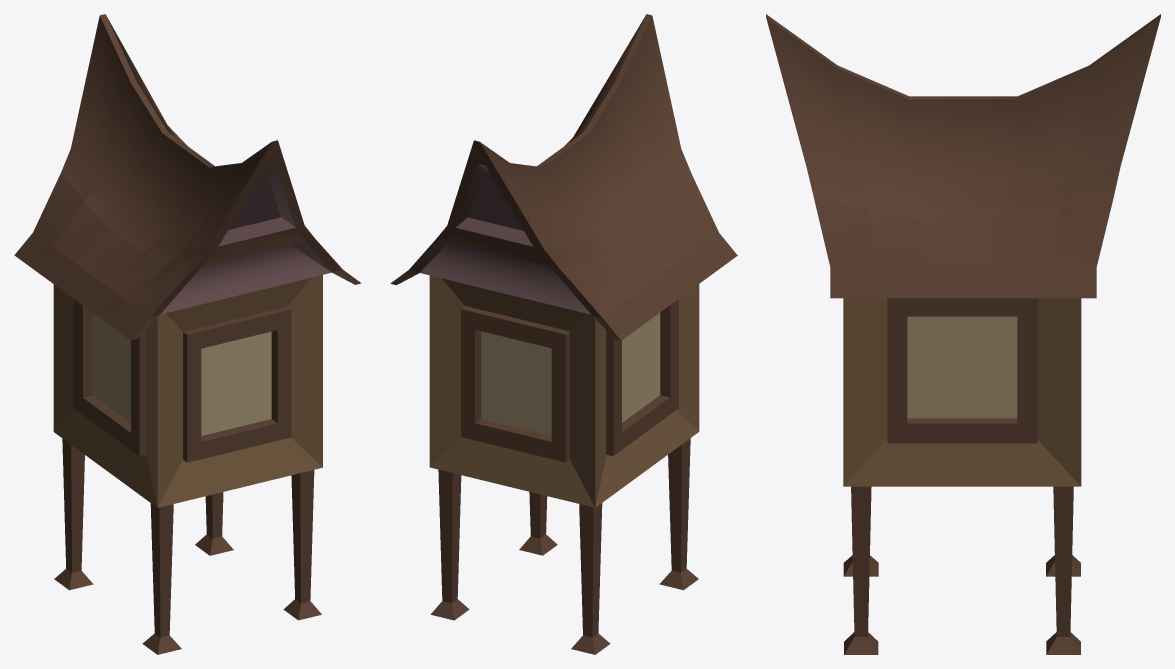
Rendered from rangkiang.fbx.
3 views of the same model, side by side, from view 1: azimuth 30°, elevation 25°; view 2: azimuth 150°, elevation 25°; view 3: azimuth 270°, elevation 25° (orthographic). The views are drawn at different scales.
Visible parts, largest first — view 1: Cube.034, pasted__pCube15; view 2: Cube.034, pasted__pCube15; view 3: pasted__pCube15, Cube.034.
Part boxes in pixels (x1=…): Cube.034: x1=53, y1=275, x2=322, y2=654; pasted__pCube15: x1=14, y1=14, x2=361, y2=340; Cube.034: x1=429, y1=275, x2=699, y2=654; pasted__pCube15: x1=390, y1=14, x2=737, y2=340; pasted__pCube15: x1=766, y1=14, x2=1160, y2=298; Cube.034: x1=843, y1=298, x2=1081, y2=654.
Bounding box in the file's own units: 366 × 785 × 473.
